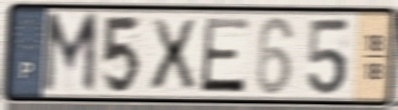5: (304, 15, 351, 98), (98, 13, 144, 95)
6: (253, 14, 299, 98)
E: (197, 16, 253, 96)
M: (39, 10, 101, 97)
X: (147, 16, 200, 93)
